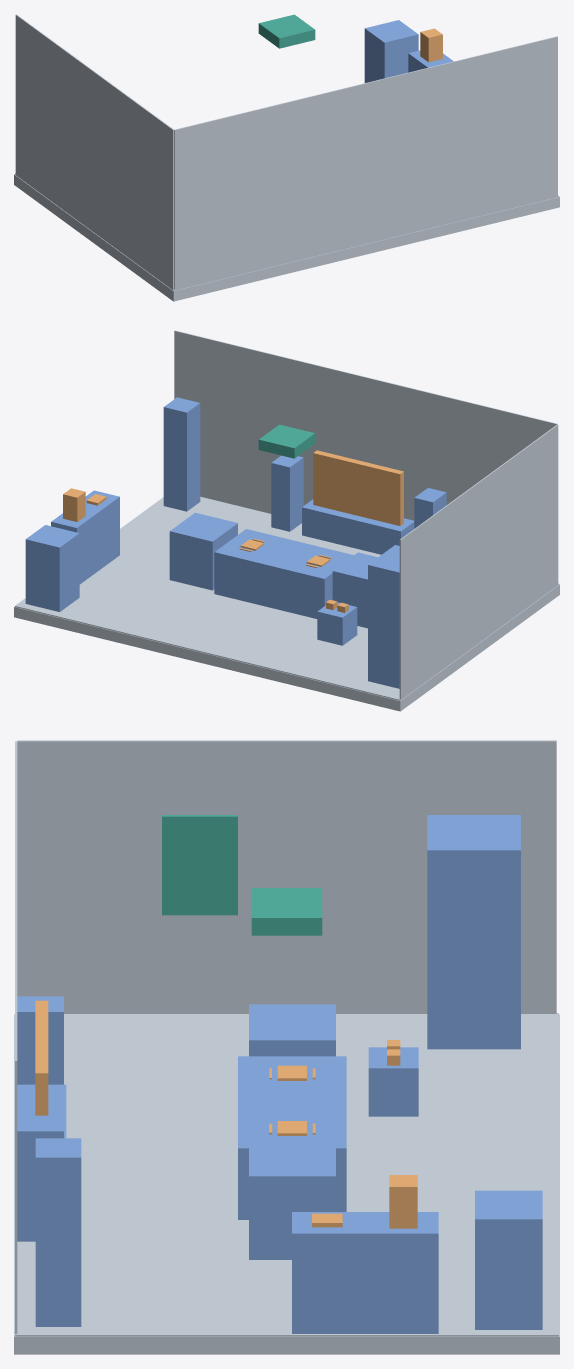
The model's file is livingroom-layout-supported.glb.
3 renders of one model, top to bottom at view 1: azimuth 30°, elevation 25°; view 2: azimuth 150°, elevation 25°; view 3: azimuth 270°, elevation 25°, orthographic. The views are drawn at different scales.
Visible parts, largest first — view 1: wall_north_01_layout, wall_east_01_layout, Display foundation_layout, corner_potted_plant_01_mesh_layout, central_ceiling_light_01_mesh_layout, cabinet_plant_01_mesh_layout, west_wall_cabinet_01_mesh_layout, floor_01_layout; view 2: wall_north_01_layout, wall_east_01_layout, floor_01_layout, dining_table_01_mesh_layout, Display foundation_layout, television_01_mesh_layout, corner_potted_plant_01_mesh_layout, tall_fridge_01_mesh_layout, floor_lamp_01_mesh_layout, short_side_armchairs_01_mesh_layout, low_tv_stand_01_mesh_layout, west_wall_cabinet_01_mesh_layout (+6 smaller); view 3: wall_east_01_layout, floor_01_layout, tall_fridge_01_mesh_layout, west_wall_cabinet_01_mesh_layout, Display foundation_layout, dining_table_01_mesh_layout, corner_potted_plant_01_mesh_layout, floor_lamp_01_mesh_layout, short_side_armchairs_01_mesh_layout, east_wall_poster_01_mesh_layout, short_side_armchairs_02_mesh_layout, central_ceiling_light_01_mesh_layout (+7 smaller).
Boxes of the visible parts, box(x1,y1,x2,y2) form: wall_north_01_layout: box(174, 36, 557, 290); wall_east_01_layout: box(15, 14, 174, 289); Display foundation_layout: box(14, 174, 559, 301); corner_potted_plant_01_mesh_layout: box(364, 20, 418, 82); central_ceiling_light_01_mesh_layout: box(258, 14, 315, 48); cabinet_plant_01_mesh_layout: box(420, 28, 442, 62); west_wall_cabinet_01_mesh_layout: box(408, 50, 453, 72); floor_01_layout: box(15, 173, 558, 290); wall_north_01_layout: box(174, 330, 557, 520); wall_east_01_layout: box(399, 424, 558, 699); floor_01_layout: box(15, 496, 558, 700); dining_table_01_mesh_layout: box(214, 529, 353, 618); Display foundation_layout: box(14, 584, 559, 711); television_01_mesh_layout: box(313, 450, 403, 525); corner_potted_plant_01_mesh_layout: box(25, 525, 79, 611); tall_fridge_01_mesh_layout: box(368, 545, 399, 688); floor_lamp_01_mesh_layout: box(163, 397, 200, 511); short_side_armchairs_01_mesh_layout: box(169, 512, 237, 590); low_tv_stand_01_mesh_layout: box(302, 499, 414, 554); west_wall_cabinet_01_mesh_layout: box(51, 490, 119, 584); wall_east_01_layout: box(17, 740, 556, 1013); floor_01_layout: box(15, 1013, 558, 1336); tall_fridge_01_mesh_layout: box(427, 815, 520, 1049); west_wall_cabinet_01_mesh_layout: box(292, 1212, 438, 1333); Display foundation_layout: box(14, 1014, 559, 1354); dining_table_01_mesh_layout: box(238, 1056, 346, 1219); corner_potted_plant_01_mesh_layout: box(475, 1190, 542, 1329); floor_lamp_01_mesh_layout: box(35, 1138, 81, 1326); short_side_armchairs_01_mesh_layout: box(249, 1140, 335, 1259); east_wall_poster_01_mesh_layout: box(162, 815, 237, 915); short_side_armchairs_02_mesh_layout: box(249, 1004, 335, 1056); central_ceiling_light_01_mesh_layout: box(251, 888, 322, 935).
Size of the model in its own units: 7.02 by 2.96 by 5.02.
